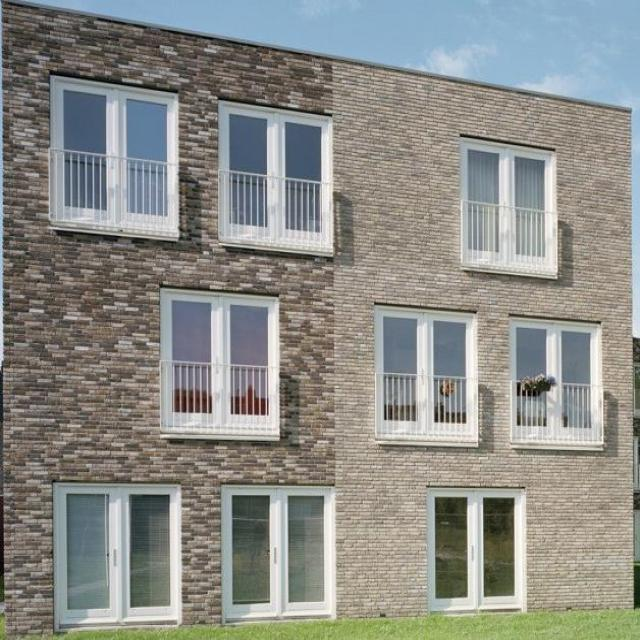door: (52, 488, 179, 638), (221, 490, 336, 630), (427, 491, 526, 621)
railing: (49, 151, 175, 234), (218, 176, 330, 255), (161, 365, 278, 436), (458, 203, 557, 279), (373, 379, 476, 446), (513, 382, 601, 451)
window: (51, 79, 175, 168), (159, 291, 279, 371), (218, 107, 329, 188), (459, 144, 554, 219), (373, 315, 473, 385), (513, 324, 597, 389)
